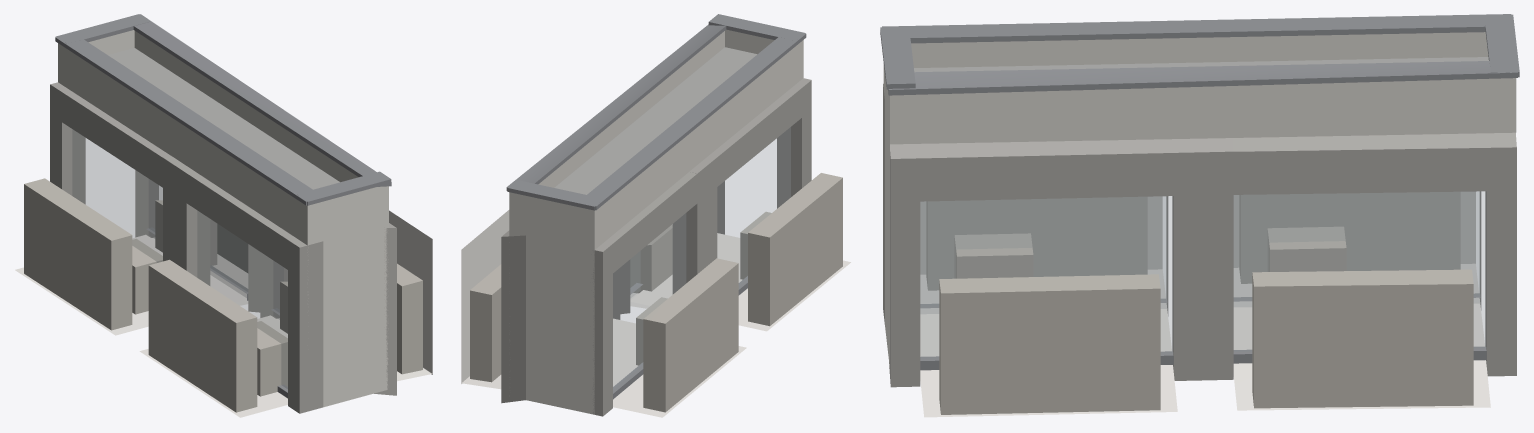
File: d12-bldg-8a285210-inferred.glb
The picture shows the model from 3 angles, left to right: view 1: azimuth 30°, elevation 25°; view 2: azimuth 150°, elevation 25°; view 3: azimuth 270°, elevation 25°; orthographic projection. The views are drawn at different scales.
Parts seen in each view (by area): view 1: INFERRED_ground.001; view 2: INFERRED_ground.001; view 3: INFERRED_ground.001.
Part boxes in pixels (x1,y1,x2,y2): INFERRED_ground.001: (15, 14, 432, 417); INFERRED_ground.001: (461, 14, 850, 417); INFERRED_ground.001: (880, 14, 1519, 417).
Bounding box in the file's own units: 3.97 × 3.89 × 7.52.
Materials: 3 (1 with a texture image).
